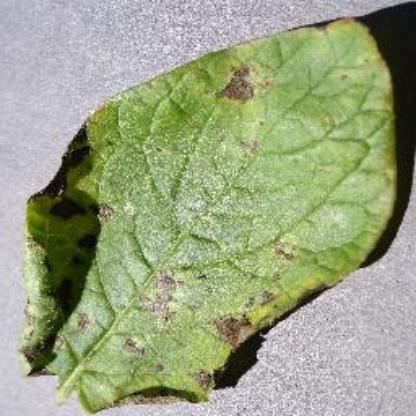Early-Blight: (18, 13, 400, 412)
